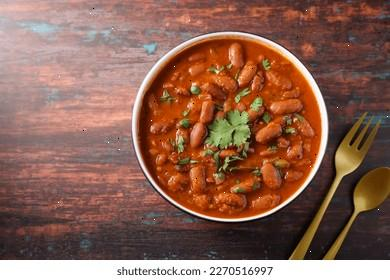rajma: (155, 39, 312, 206)
